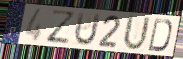2: (97, 14, 123, 49)
4: (24, 7, 45, 44)
D: (147, 17, 174, 53)
U: (121, 13, 152, 52), (73, 11, 102, 47)
Z: (45, 9, 78, 45)
